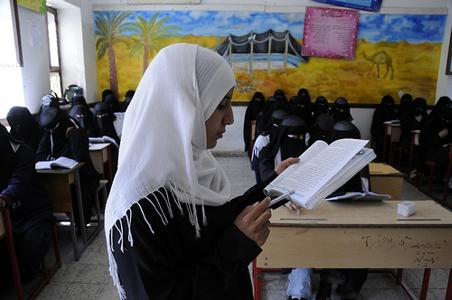person: (106, 42, 300, 300)
